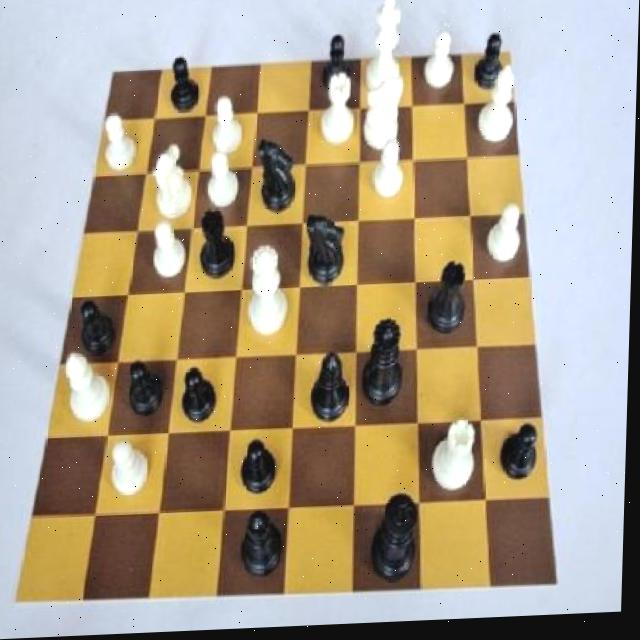bishop: (310, 347, 361, 433), (242, 503, 291, 588)
black-bishop: (366, 478, 429, 591)
black-king: (302, 207, 357, 298), (255, 132, 306, 226)
black-knight: (497, 411, 550, 494), (240, 420, 287, 509), (178, 362, 225, 435), (122, 354, 171, 423), (469, 27, 514, 102), (73, 297, 124, 361), (163, 54, 207, 123), (321, 27, 358, 100)
black-pawn: (361, 307, 416, 420)
black-queen: (425, 256, 477, 356), (195, 202, 243, 290)
black-rook: (471, 61, 525, 156), (62, 348, 120, 433)
white-bishop: (365, 0, 414, 103)
white-king: (147, 139, 200, 227), (364, 73, 405, 159)
white-knight: (96, 106, 146, 184), (108, 436, 161, 502), (147, 216, 193, 290), (483, 200, 530, 272), (201, 143, 245, 216), (367, 135, 411, 208), (208, 91, 251, 164), (419, 27, 462, 98)
white-pawn: (249, 240, 299, 343)
white-queen: (429, 406, 487, 508), (319, 69, 359, 155)
